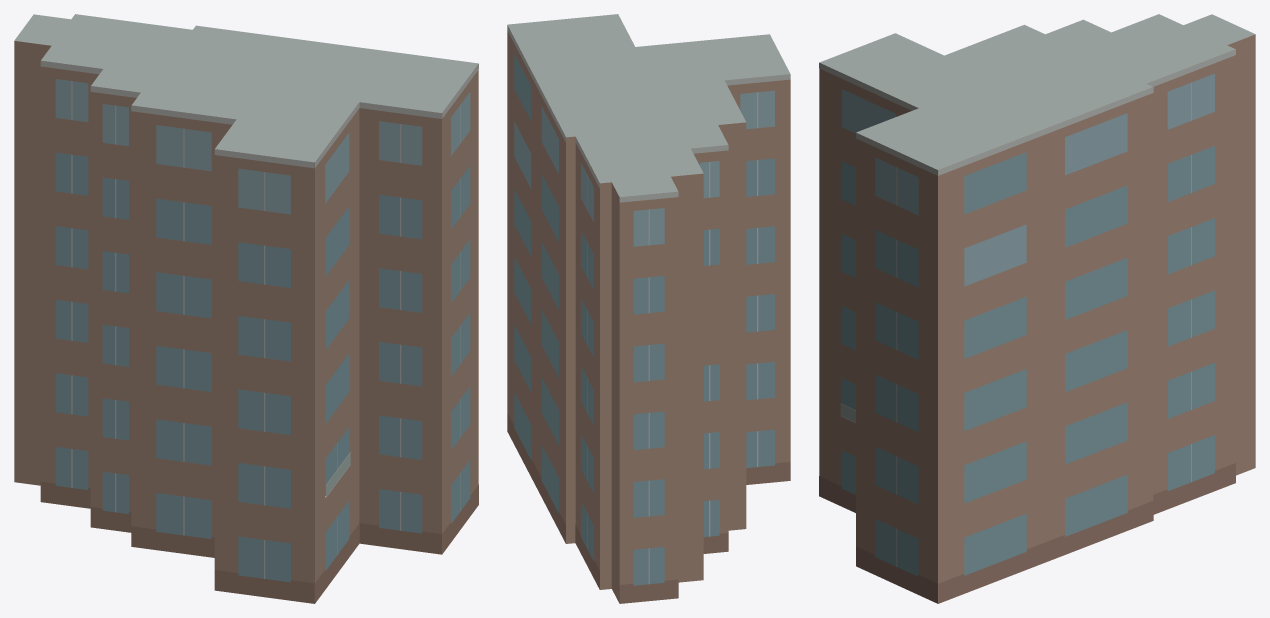
Rendered from survey-upis-32664924.glb.
3 renders of one model, left to right at view 1: azimuth 30°, elevation 25°; view 2: azimuth 150°, elevation 25°; view 3: azimuth 270°, elevation 25°, orthographic. The views are drawn at different scales.
Parts seen in each view (by area): view 1: survey-upis-32664924.tmp; view 2: survey-upis-32664924.tmp; view 3: survey-upis-32664924.tmp.
Boxes of the visible parts, box(x1,y1,x2,y2) form: survey-upis-32664924.tmp: box(14, 14, 478, 603); survey-upis-32664924.tmp: box(507, 14, 790, 603); survey-upis-32664924.tmp: box(819, 14, 1255, 603).
Size of the model in its own units: 14.14 by 18.3 by 16.7.
